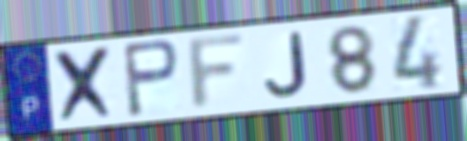4: (389, 14, 448, 93)
8: (322, 23, 380, 95)
F: (184, 30, 250, 115)
J: (262, 30, 311, 100)
P: (119, 37, 183, 120)
X: (50, 43, 121, 126)
